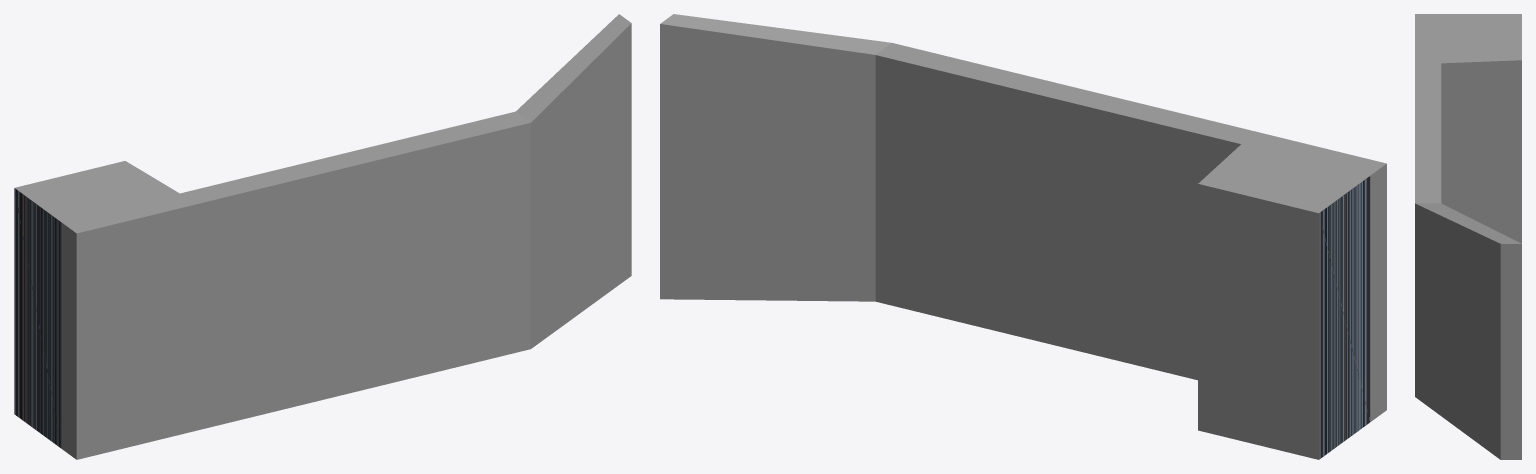
File: someShit11.obj
3 views of the same model, side by side, from view 1: azimuth 30°, elevation 25°; view 2: azimuth 150°, elevation 25°; view 3: azimuth 270°, elevation 25° (orthographic). The views are drawn at different scales.
Visible parts, largest first — view 1: Plane.011_Plane.012; view 2: Plane.011_Plane.012; view 3: Plane.011_Plane.012.
Part boxes in pixels (x1=…): Plane.011_Plane.012: x1=14, y1=14, x2=631, y2=459; Plane.011_Plane.012: x1=660, y1=14, x2=1386, y2=459; Plane.011_Plane.012: x1=1415, y1=14, x2=1521, y2=459.
Size of the model in its own units: 722 by 288 by 129.
2 materials, 1 textured.
